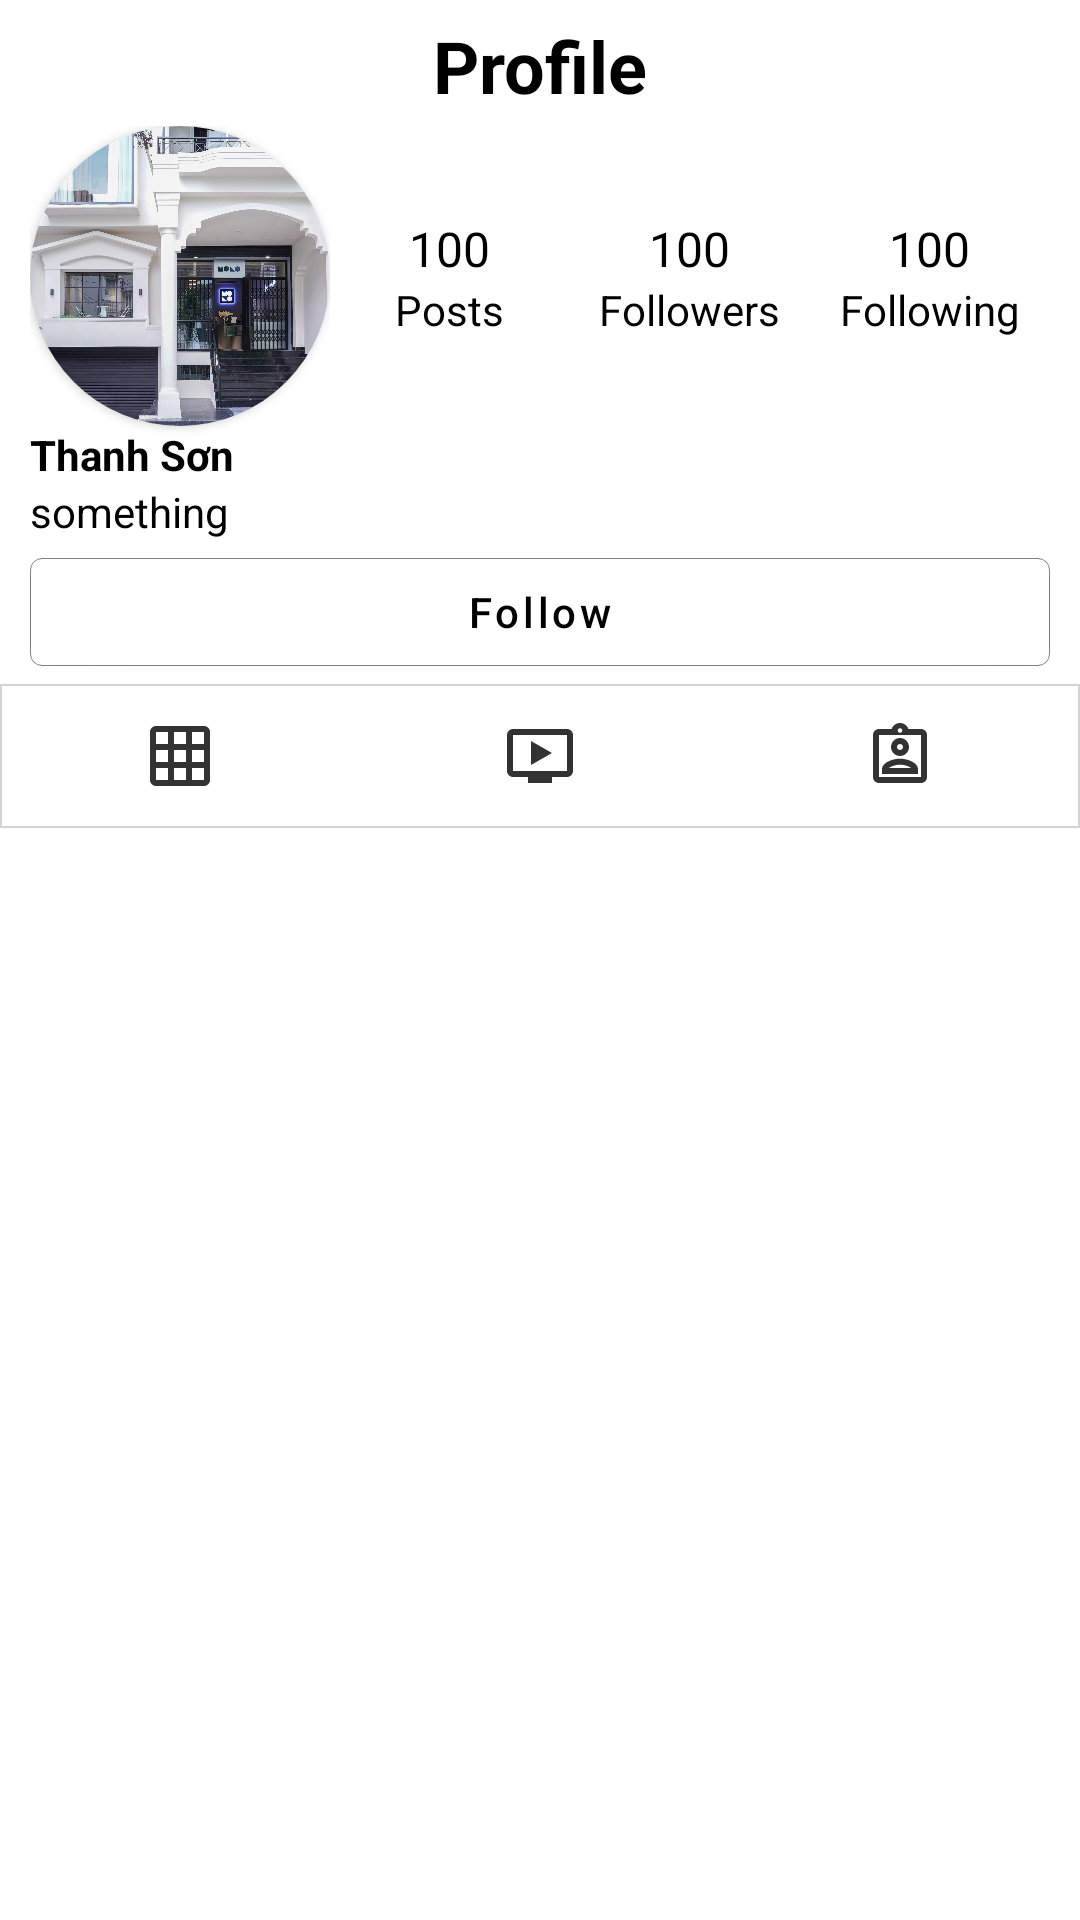

Icon bounding boxes for this 1080 × 1920 phone screenshot, format bbox=[x1, y1, x2, y2]:
grid: bbox=[150, 726, 210, 786]
tag: bbox=[873, 723, 927, 783]
video: bbox=[507, 729, 573, 783]
